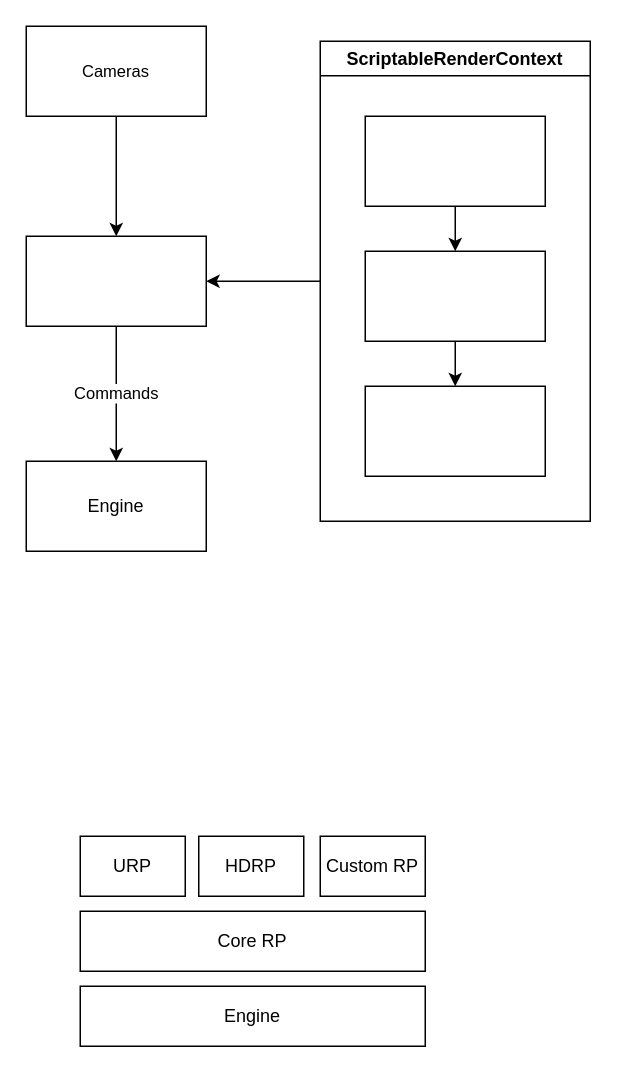
Image size: 617x1073. Some labels were removed from this diagram. Here are the shapes that lost their labels. From the top down, the centre of each, then its label:
At pixel 454 160: "Culling".
At pixel 115 280: "CoreRP".
At pixel 454 295: "Drawing".
At pixel 454 430: "Post Processing".
